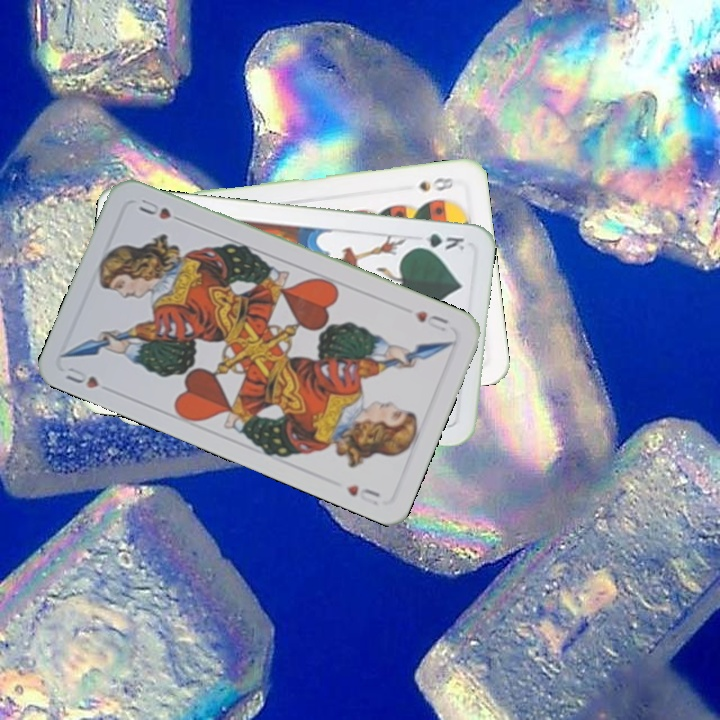GK: (410, 230, 467, 253)
HU: (410, 306, 451, 335), (61, 363, 101, 391)
S8: (414, 173, 456, 194)
